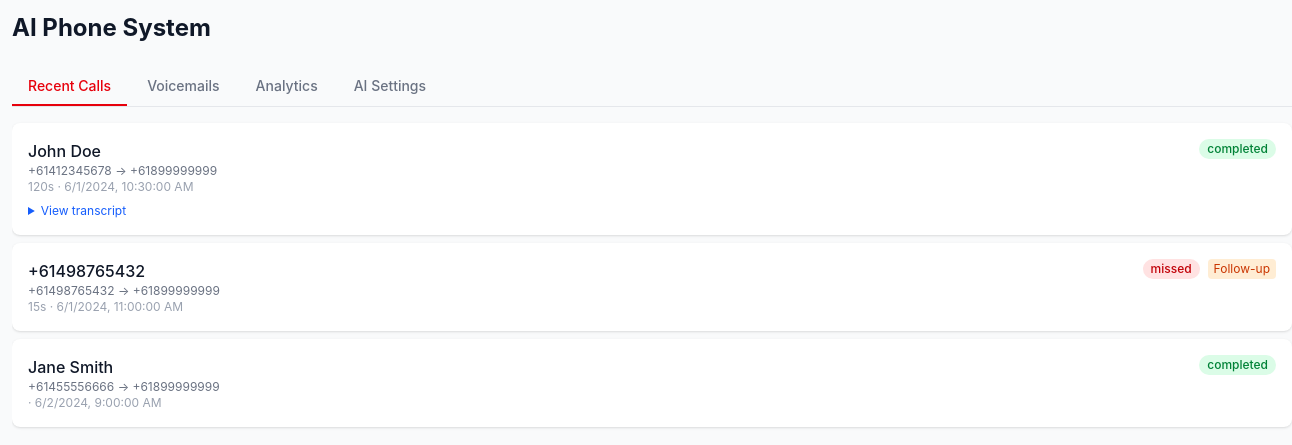
Test: PhoneSystem Page › shows Voicemails tab with from_number and mark heard button
The width and height of the screenshot is (1292, 445).
Click the button "Voicemails" at {"x": 183, "y": 87}, box [131, 68, 236, 106]
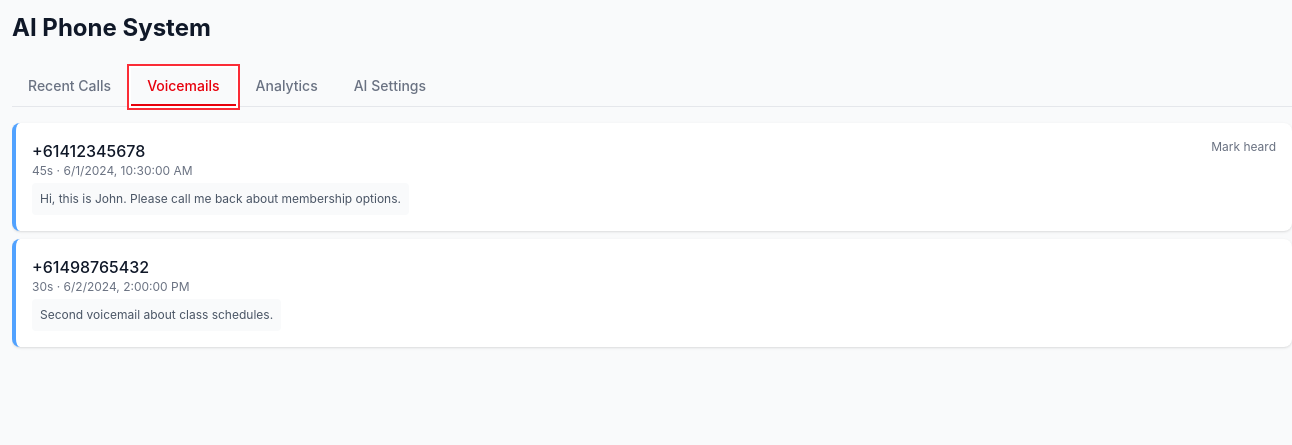
Expected: the text "+61412345678" is shown, [32, 141, 145, 161]
Expected: the text "45s · 6/1/2024, 10:30:00 AM" is shown, [32, 163, 193, 178]
Expected: the number of buttons "Mark heard" is 1, [1211, 139, 1276, 155]
